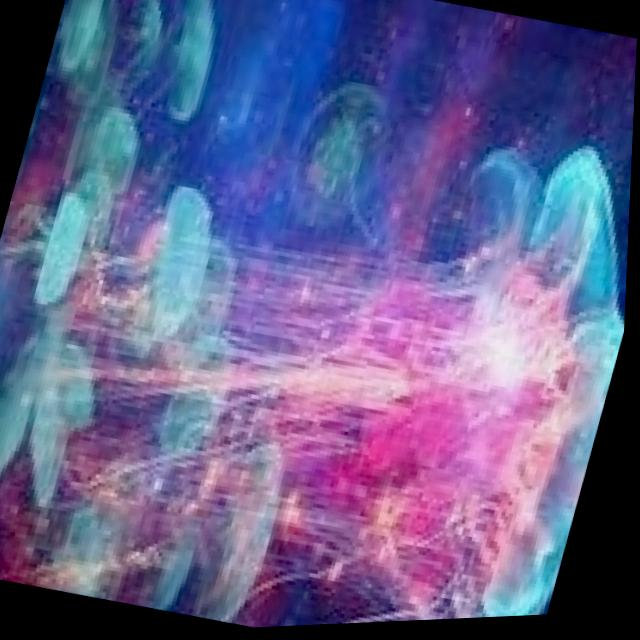Jellyfish: (47, 47, 638, 638)
